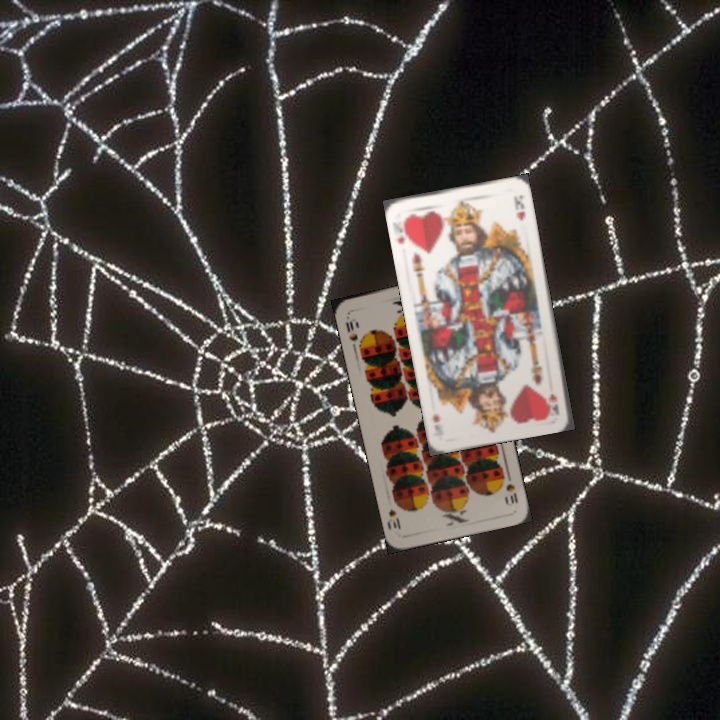HK: (393, 214, 413, 247), (545, 389, 562, 416)
S10: (502, 468, 521, 509), (342, 317, 360, 344)
